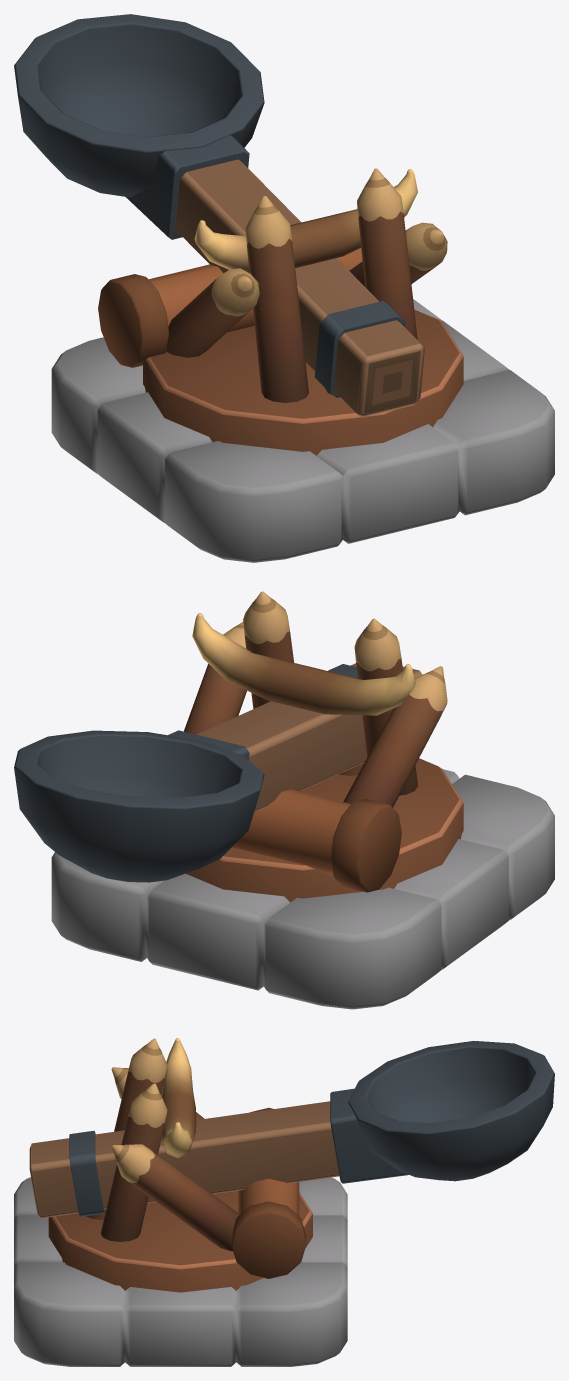
File: CatapulMini_1.fbx
The picture shows the model from 3 angles, top to bottom: view 1: azimuth 30°, elevation 25°; view 2: azimuth 150°, elevation 25°; view 3: azimuth 270°, elevation 25°; orthographic projection. The views are drawn at different scales.
Visible parts, largest first — view 1: CatapulMini_1, CattapultHead; view 2: CatapulMini_1, CattapultHead; view 3: CatapulMini_1, CattapultHead.
Part boxes in pixels (bbox=[...]): CatapulMini_1: bbox=[51, 168, 554, 562]; CattapultHead: bbox=[14, 14, 424, 417]; CatapulMini_1: bbox=[51, 591, 554, 1009]; CattapultHead: bbox=[14, 663, 422, 882]; CatapulMini_1: bbox=[14, 1038, 347, 1366]; CattapultHead: bbox=[29, 1041, 554, 1218].
Bounding box in the file's own units: 195 × 153 × 316.
